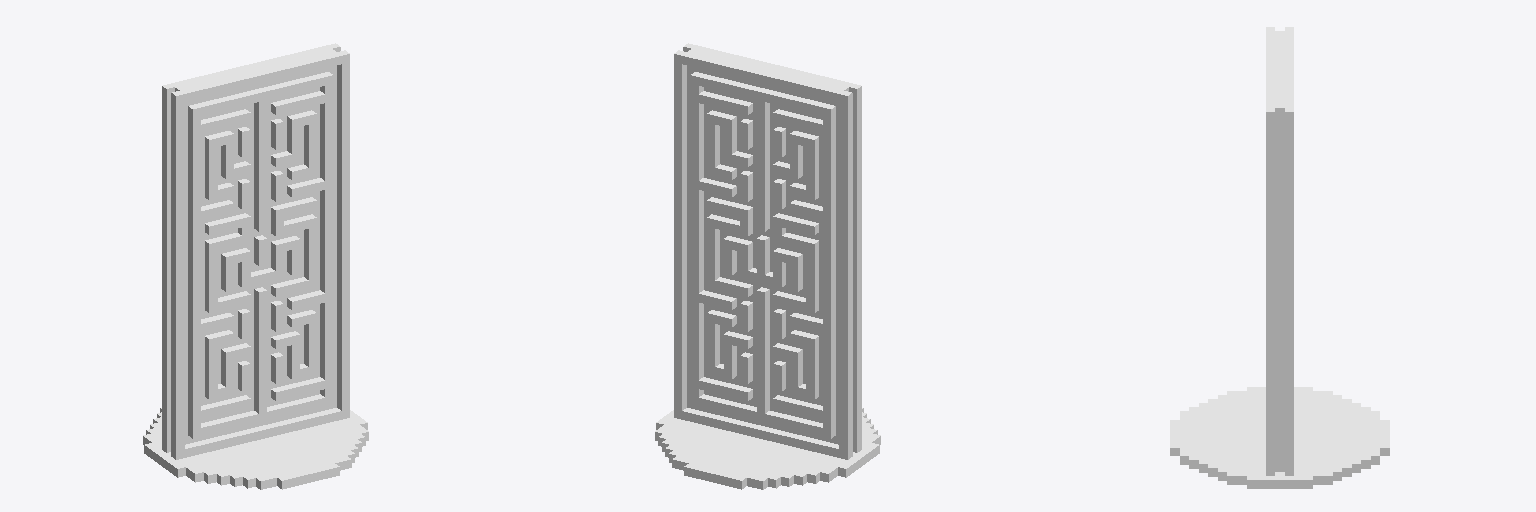
Rendered from PorteTourneV5.obj.
The picture shows the model from 3 angles: view 1: azimuth 30°, elevation 25°; view 2: azimuth 150°, elevation 25°; view 3: azimuth 270°, elevation 25°; orthographic projection.
Bounding box in the file's own units: 23 × 43 × 23.